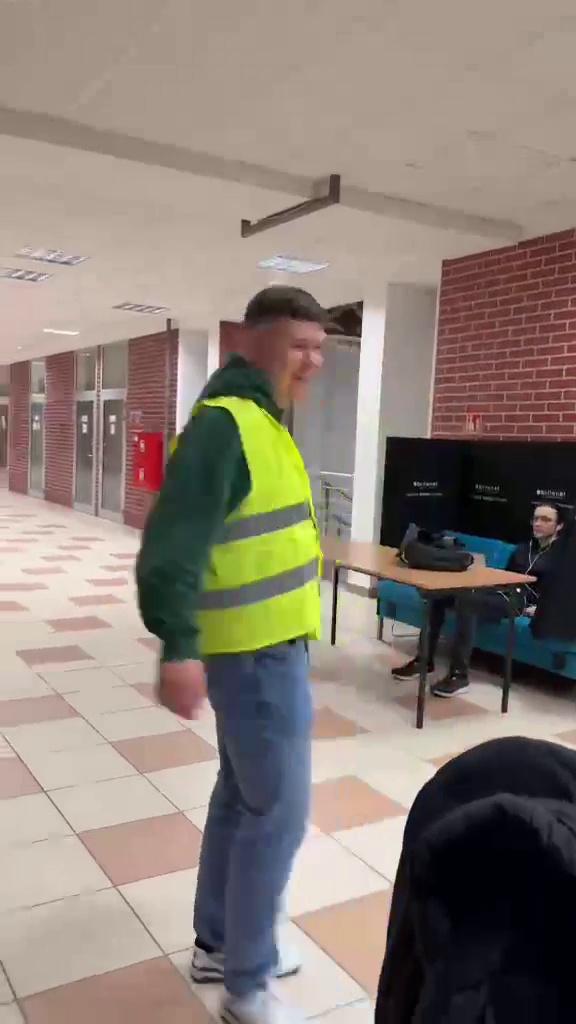no vest: (448, 500, 572, 656)
vest: (141, 274, 363, 1000)
